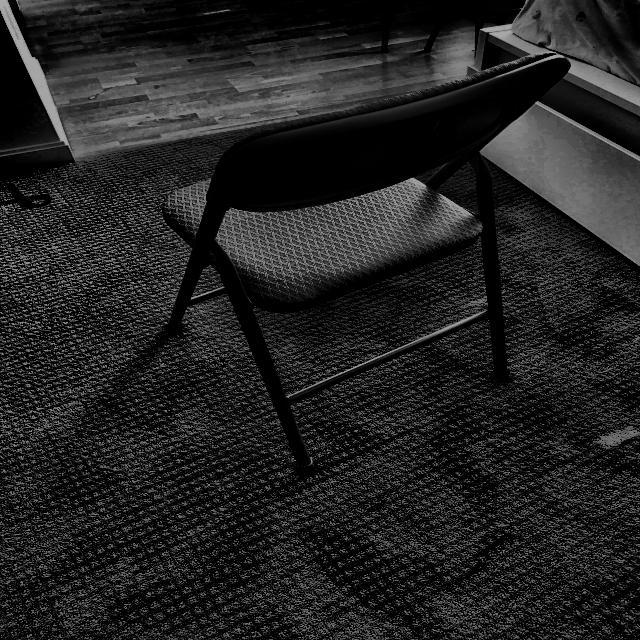chair: (165, 54, 578, 480)
